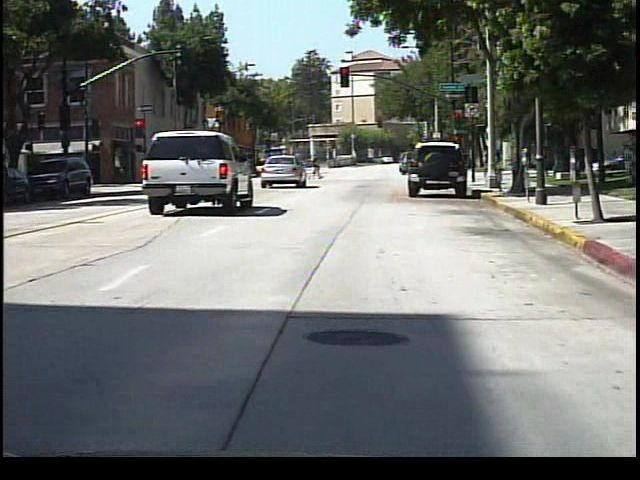person: (461, 153, 477, 183), (313, 155, 327, 184), (543, 140, 552, 182)
